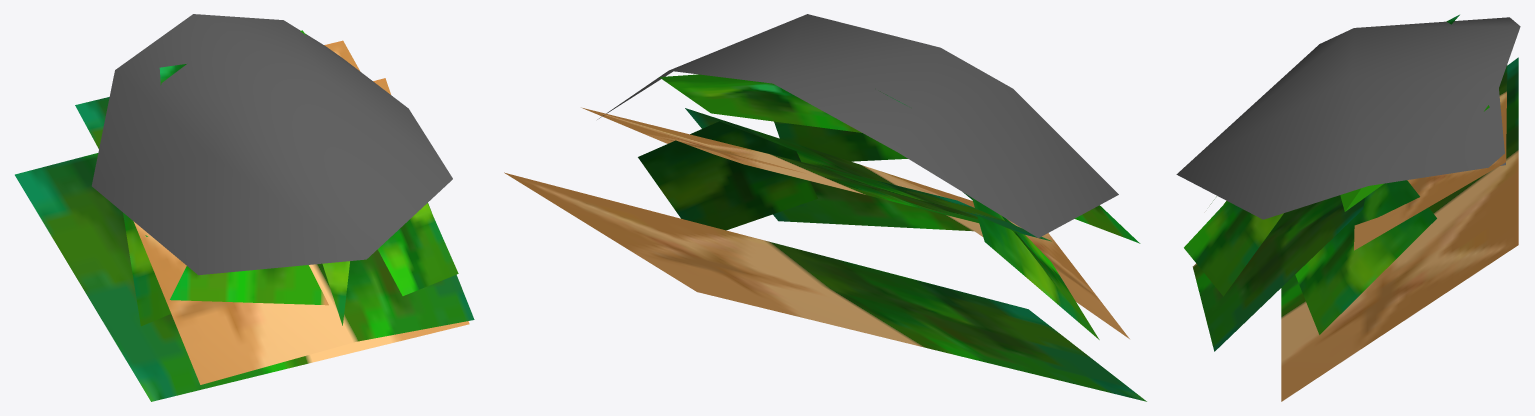
Rendered from fg_bushE_2_s.dae.
3 renders of one model, left to right at view 1: azimuth 30°, elevation 25°; view 2: azimuth 150°, elevation 25°; view 3: azimuth 270°, elevation 25°, orthographic. The views are drawn at different scales.
Visible parts, largest first — view 1: fg_bushE_2_s; view 2: fg_bushE_2_s; view 3: fg_bushE_2_s.
Boxes of the visible parts, <box> form: fg_bushE_2_s: <box>15,14,474,401</box>; fg_bushE_2_s: <box>504,14,1146,401</box>; fg_bushE_2_s: <box>1176,14,1520,401</box>.
Bounding box in the file's own units: 50.84 × 35.23 × 38.03.
1 material, 1 textured.
